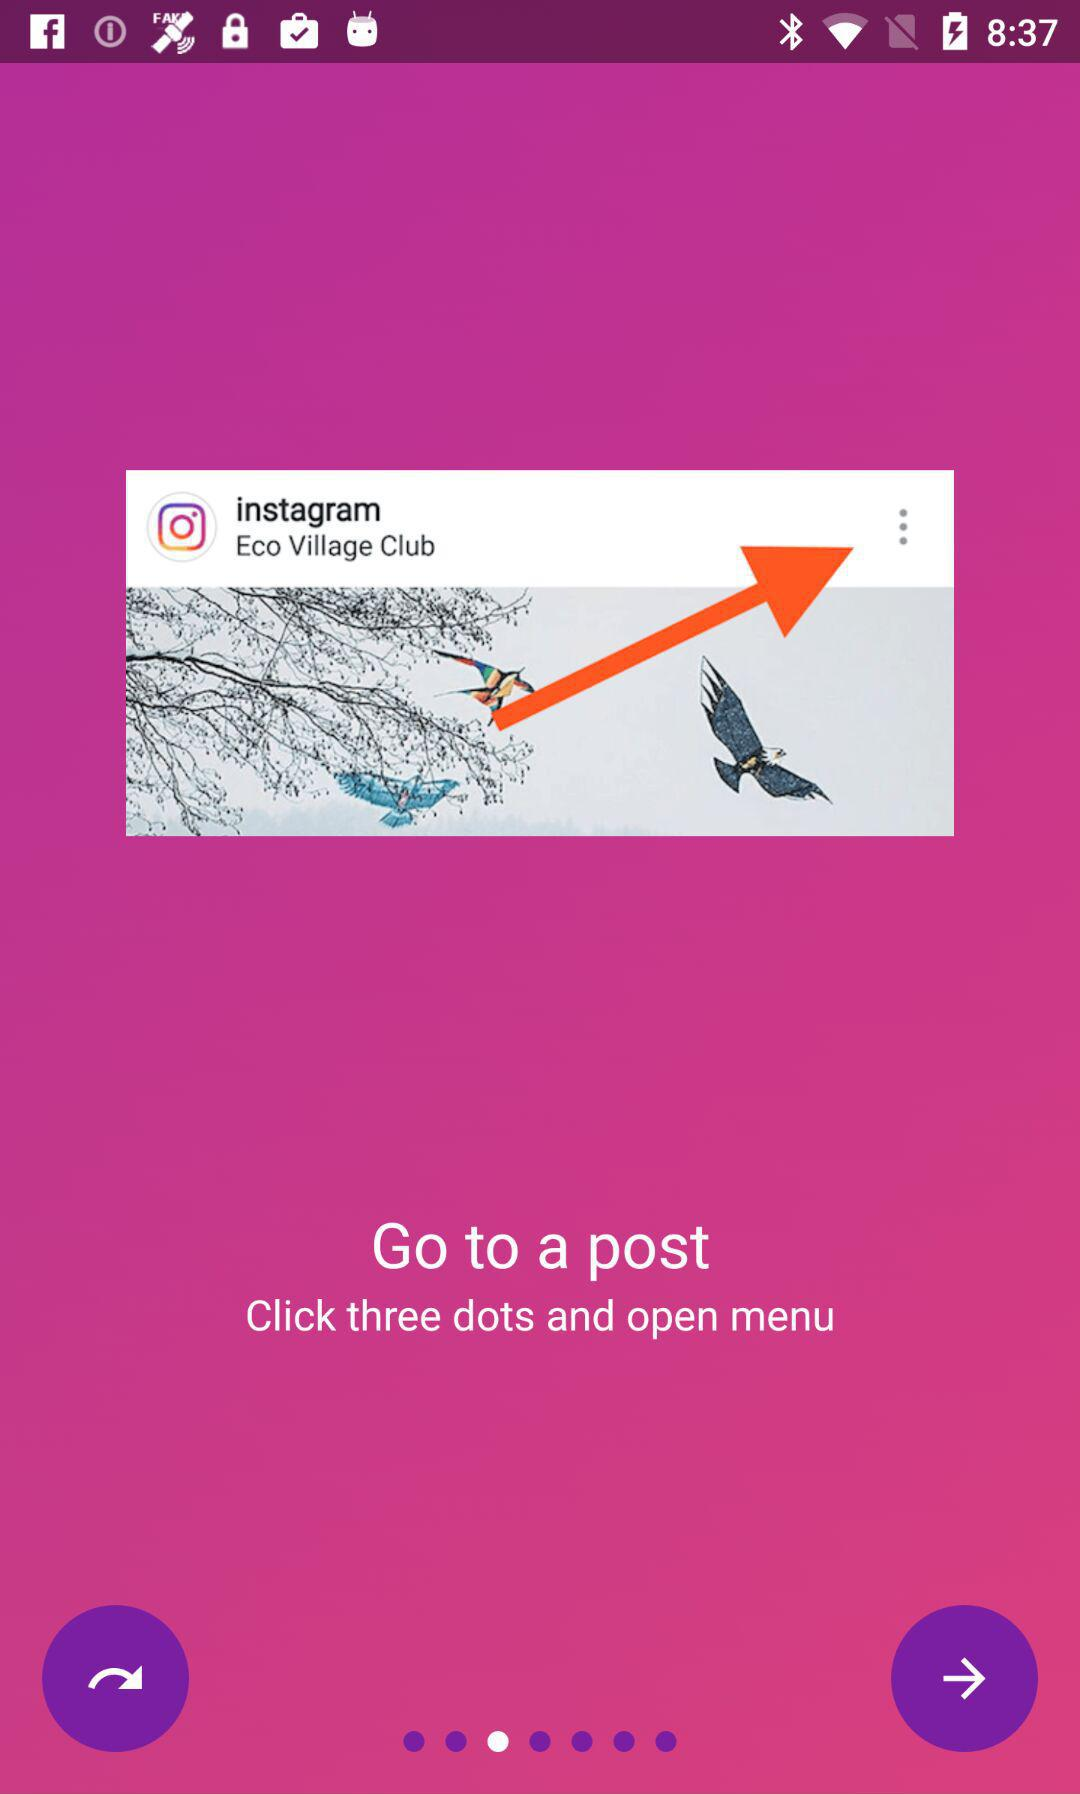Icon: (890, 1606, 1039, 1753), (42, 1604, 190, 1753)
Image: (127, 470, 954, 837)
PageIndicator: (402, 1729, 678, 1754)
Text: (247, 1298, 834, 1340), (373, 1222, 710, 1283)
UpperTaskBar: (1, 1, 1080, 64)
